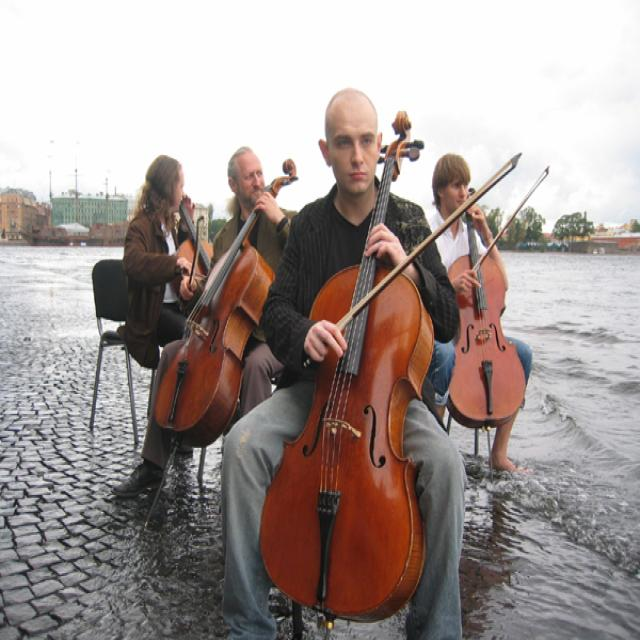cello: (258, 108, 432, 620), (149, 155, 295, 447), (440, 188, 524, 432), (157, 180, 220, 300)
